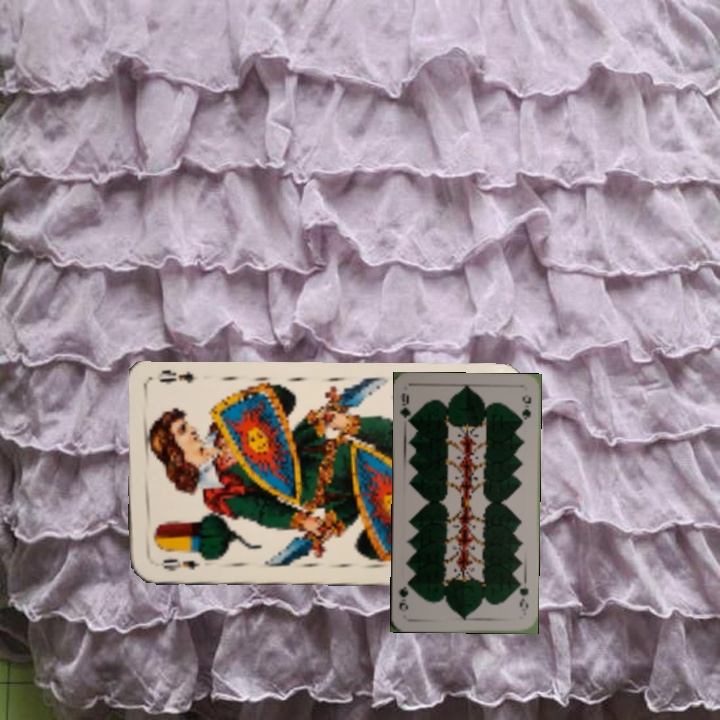EO: (159, 555, 203, 574)
G9: (396, 389, 416, 427), (514, 577, 531, 615)
